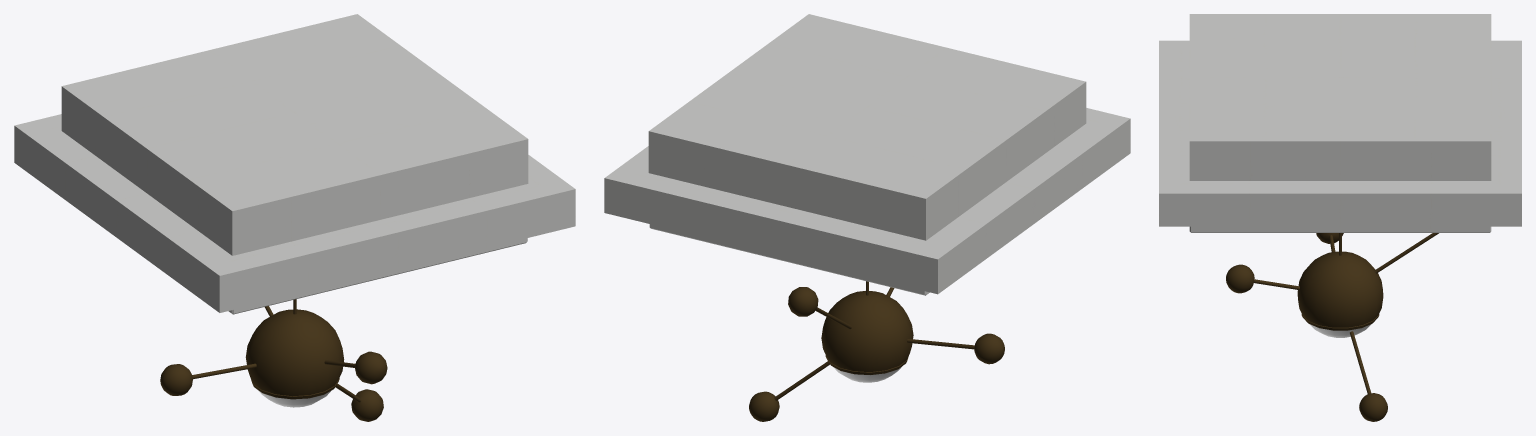
Rendered from CeilingSolid.fbx.
3 renders of one model, left to right at view 1: azimuth 30°, elevation 25°; view 2: azimuth 150°, elevation 25°; view 3: azimuth 270°, elevation 25°, orthographic. The views are drawn at different scales.
Visible parts, largest first — view 1: CeilingSolid, SputnikLantern; view 2: CeilingSolid, SputnikLantern; view 3: CeilingSolid, SputnikLantern.
Boxes of the visible parts, <box> form: CeilingSolid: <box>14,14,575,314</box>; SputnikLantern: <box>160,299,387,421</box>; CeilingSolid: <box>604,14,1130,295</box>; SputnikLantern: <box>749,281,1004,421</box>; CeilingSolid: <box>1159,14,1521,232</box>; SputnikLantern: <box>1226,233,1438,421</box>.
Bounding box in the file's own units: 500 × 461 × 500.
